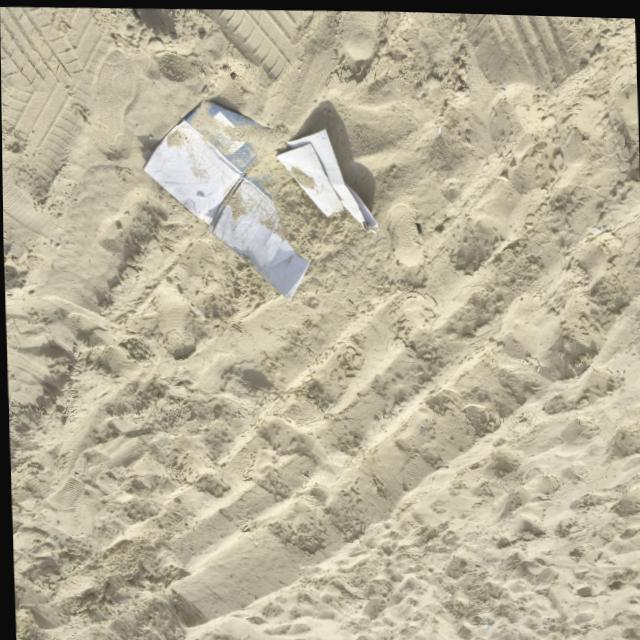Paper: (132, 75, 387, 312)
